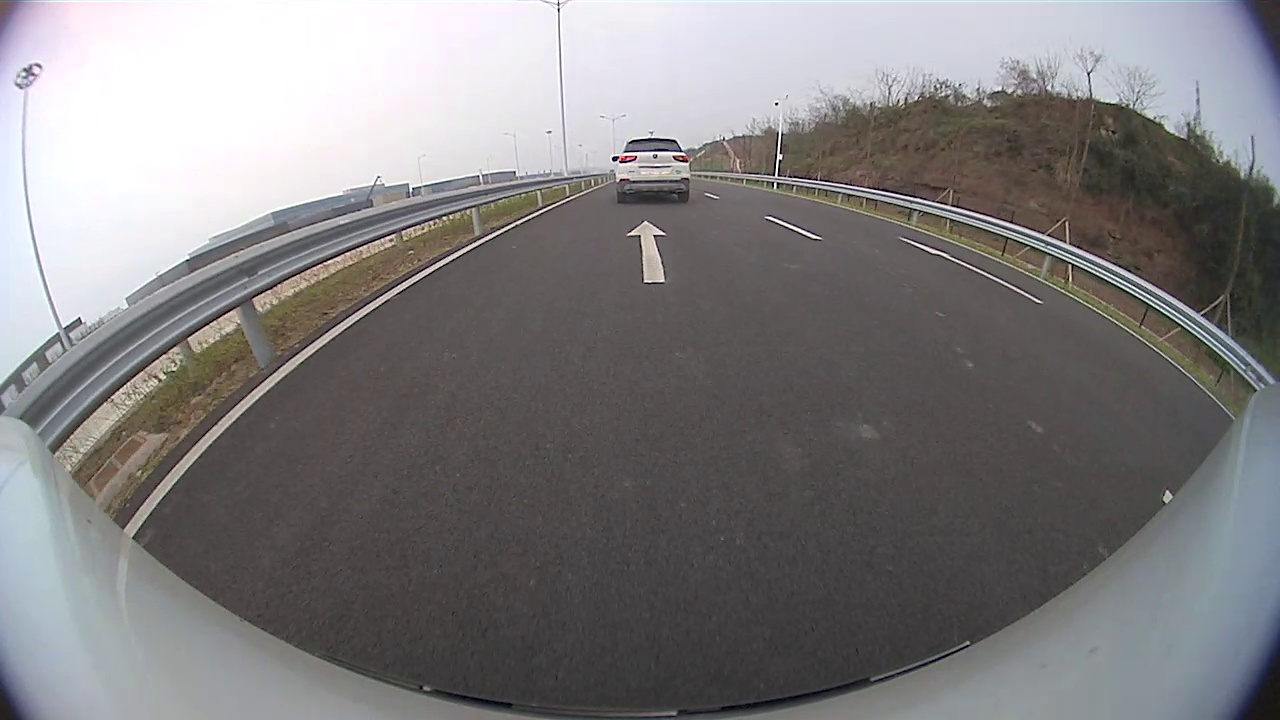car: (611, 138, 690, 203)
